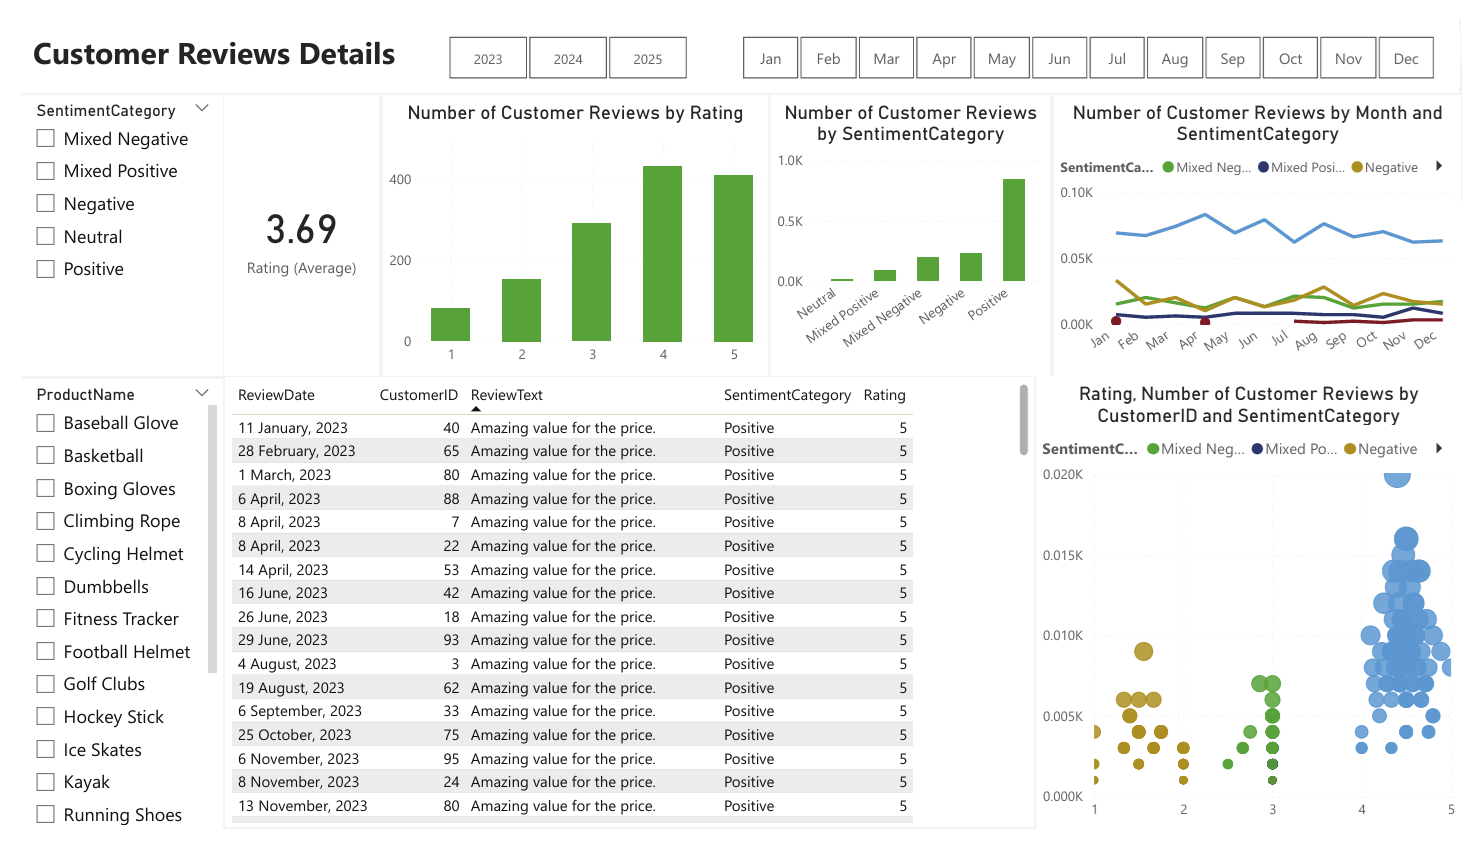

What the dashboard file says about the page in this screenshot:
{"tool":"powerbi","page":{"name":"Customer Reviews Details","canvas":[1280,720],"ordinal":3},"visuals":[{"type":"textbox","box":[0,0,1278.5,64.7],"z":0},{"type":"slicer","fields":{"Values":["fact_customer_reviews_with_sentiment.SentimentCategory"]},"box":[0,67.2,178.7,249.2],"z":1000},{"type":"card","fields":{"Values":["Calculations.Rating (Average)"]},"box":[180.3,67.2,136.6,249.2],"z":2000},{"type":"slicer","fields":{"Values":["Calendar.Year"]},"box":[354.1,8.2,260.7,50.8],"z":3000},{"type":"slicer","fields":{"Values":["Calendar.MonthNameShort"]},"box":[614.5,8.1,664.9,50.4],"z":4000},{"type":"clusteredColumnChart","fields":{"Category":["fact_customer_reviews_with_sentiment.Rating"],"Y":["Calculations.Number of Customer Reviews"]},"box":[320.9,67.2,341.8,249.3],"z":5000},{"type":"clusteredColumnChart","fields":{"Category":["fact_customer_reviews_with_sentiment.SentimentCategory"],"Y":["Calculations.Number of Customer Reviews"]},"box":[665.7,67.2,248.8,249.3],"z":6000},{"type":"lineChart","title":"Number of Customer Reviews by Month and SentimentCategory","fields":{"Category":["Calendar.MonthNameShort"],"Y":["Calculations.Number of Customer Reviews"],"Series":["fact_customer_reviews_with_sentiment.SentimentCategory"]},"box":[918,67.2,360.7,250.3],"z":7000},{"type":"tableEx","fields":{"Values":["fact_customer_reviews_with_sentiment.ReviewDate","fact_customer_reviews_with_sentiment.CustomerID","fact_customer_reviews_with_sentiment.ReviewText","fact_customer_reviews_with_sentiment.SentimentCategory","fact_customer_reviews_with_sentiment.Rating"]},"box":[180.6,317.9,719.4,400],"z":8000},{"type":"scatterChart","title":"Rating,  Number of Customer Reviews by CustomerID and SentimentCategory","fields":{"X":["Calculations.Rating (Average)"],"Y":["Calculations.Number of Customer Reviews"],"Category":["dim_customers.CustomerID"],"Series":["fact_customer_reviews_with_sentiment.SentimentCategory"],"Size":["Calculations.Number of Customer Reviews"]},"box":[901.6,317.5,377,402.2],"z":9000},{"type":"slicer","fields":{"Values":["products.ProductName"]},"box":[0,319.7,178.7,400],"z":10000}]}

Visuals, with their boxes in screenshot pixels (x1, y1, x2, y2), scaled from the page's 1280x720 canvas onto the 1483x851 screenshot:
textbox: crop(0, 0, 1481, 76)
slicer - fact_customer_reviews_with_sentiment.SentimentCategory: crop(0, 79, 207, 374)
card - Calculations.Rating (Average): crop(209, 79, 367, 374)
slicer - Calendar.Year: crop(410, 10, 712, 70)
slicer - Calendar.MonthNameShort: crop(712, 10, 1482, 69)
clusteredColumnChart - fact_customer_reviews_with_sentiment.Rating x Calculations.Number of Customer Reviews: crop(372, 79, 768, 374)
clusteredColumnChart - fact_customer_reviews_with_sentiment.SentimentCategory x Calculations.Number of Customer Reviews: crop(771, 79, 1060, 374)
"Number of Customer Reviews by Month and SentimentCategory" lineChart: crop(1064, 79, 1481, 375)
tableEx - fact_customer_reviews_with_sentiment.ReviewDate x fact_customer_reviews_with_sentiment.CustomerID: crop(209, 376, 1043, 849)
"Rating,  Number of Customer Reviews by CustomerID and SentimentCategory" scatterChart: crop(1045, 375, 1481, 850)
slicer - products.ProductName: crop(0, 378, 207, 850)
